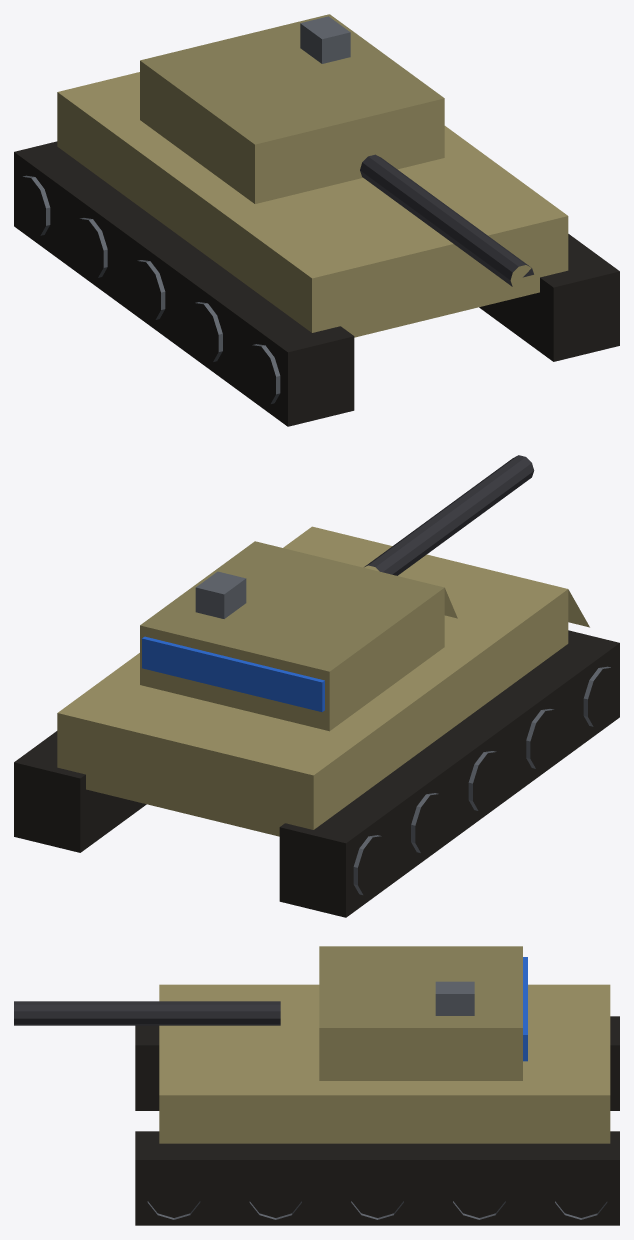
File: tank_modern.glb
3 views of the same model, one above another, from view 1: azimuth 30°, elevation 25°; view 2: azimuth 150°, elevation 25°; view 3: azimuth 270°, elevation 25° (orthographic). The views are drawn at different scales.
Parts seen in each view (by area): view 1: tank_modern; view 2: tank_modern; view 3: tank_modern.
Part boxes in pixels (bbox=[...]): tank_modern: bbox=[14, 14, 619, 426]; tank_modern: bbox=[14, 455, 619, 917]; tank_modern: bbox=[14, 946, 619, 1225].
Size of the model in its own units: 0.72 by 0.43 by 1.25.
